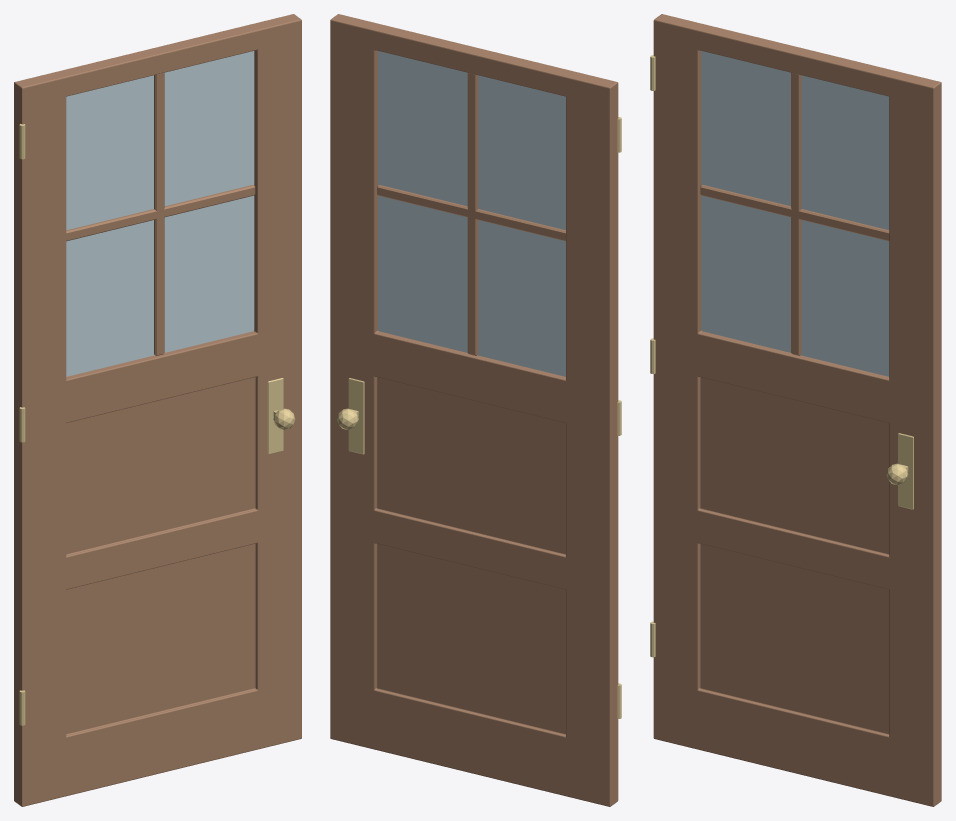
File: door_leaf_back.glb
The picture shows the model from 3 angles, left to right: view 1: azimuth 30°, elevation 25°; view 2: azimuth 150°, elevation 25°; view 3: azimuth 330°, elevation 25°; orthographic projection.
Parts seen in each view (by area): view 1: door_leaf_back_door, door_leaf_back_glass, door_leaf_back_brass; view 2: door_leaf_back_door, door_leaf_back_glass, door_leaf_back_brass; view 3: door_leaf_back_door, door_leaf_back_glass, door_leaf_back_brass.
Part boxes in pixels (box(x1,y1,x2,y2)): door_leaf_back_door: box(14, 14, 301, 806); door_leaf_back_glass: box(66, 51, 254, 376); door_leaf_back_brass: box(19, 124, 295, 725); door_leaf_back_door: box(330, 14, 618, 806); door_leaf_back_glass: box(378, 51, 565, 376); door_leaf_back_brass: box(337, 117, 621, 718); door_leaf_back_door: box(653, 14, 941, 806); door_leaf_back_glass: box(701, 51, 889, 376); door_leaf_back_brass: box(650, 55, 913, 657).
Bounding box in the file's own units: 0.888 × 2.16 × 0.205.
